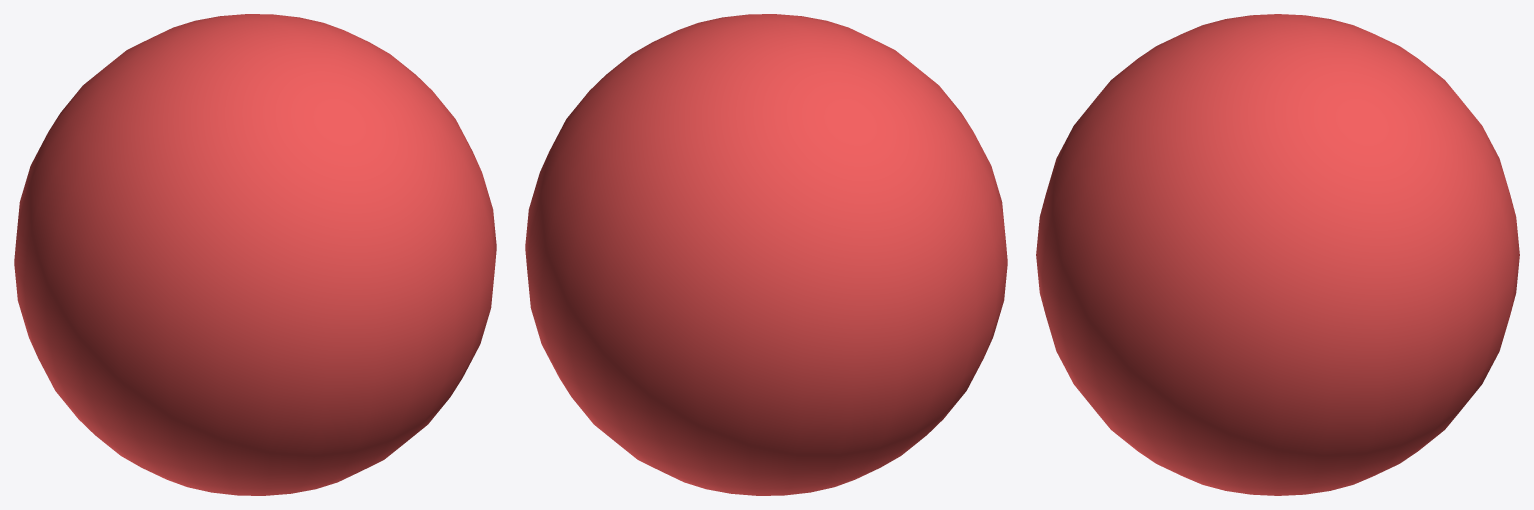
File: clown_nose.glb
3 renders of one model, left to right at view 1: azimuth 30°, elevation 25°; view 2: azimuth 150°, elevation 25°; view 3: azimuth 270°, elevation 25°, orthographic.
Size of the model in its own units: 0.044 by 0.044 by 0.044.
